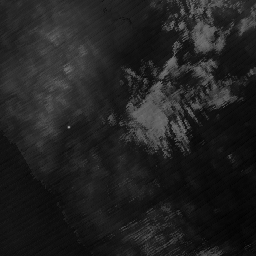Target: (65, 124, 71, 130)
